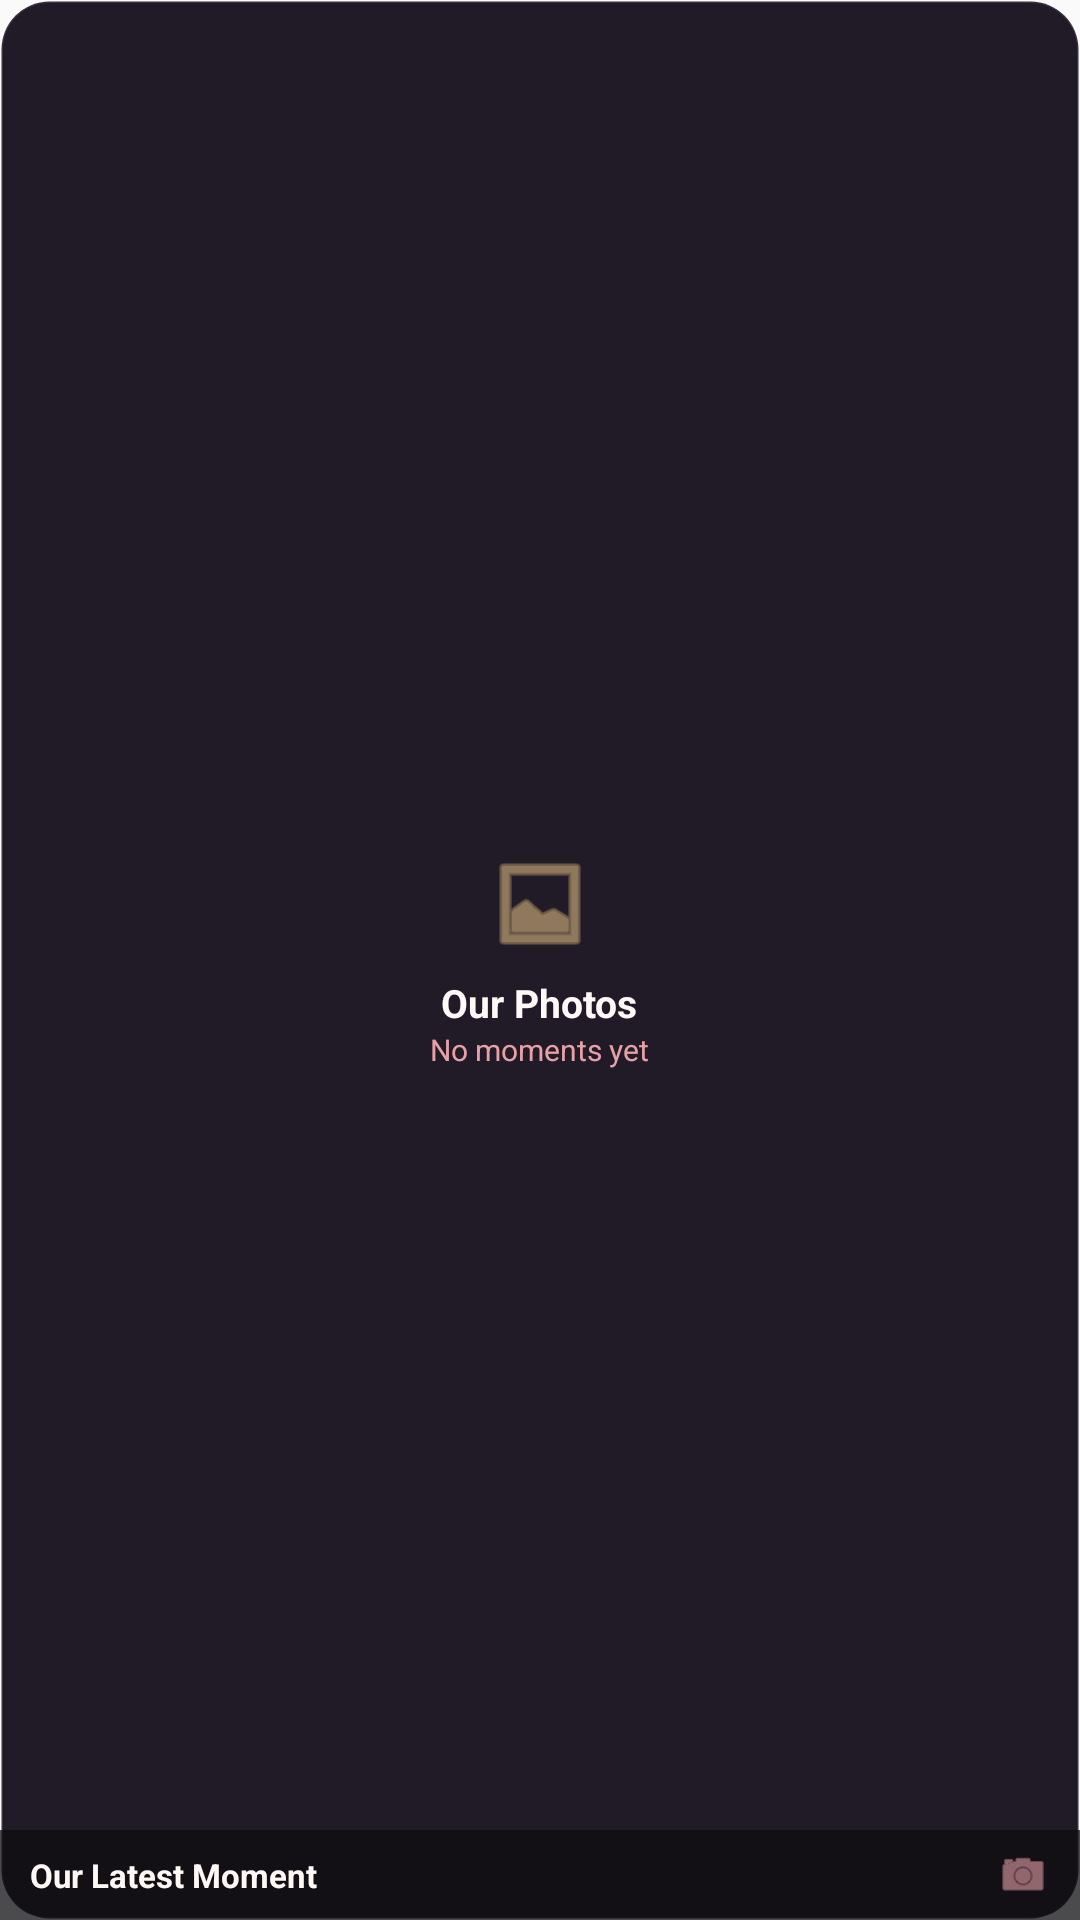

Icon bounding boxes for this 1080x1920 phone screenshot, format (x1, y1, x2, y2):
camera: (1002, 1858, 1044, 1891)
gallery: (499, 863, 581, 945)
